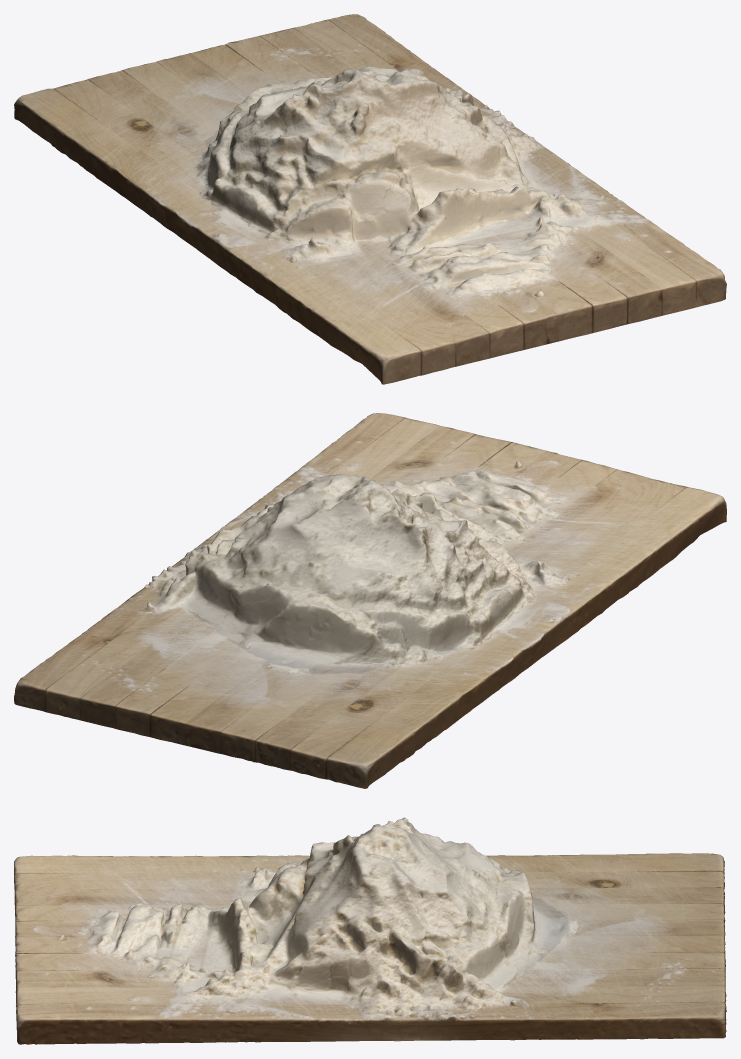
Rendered from flour_pile.glb.
The picture shows the model from 3 angles, top to bottom: view 1: azimuth 30°, elevation 25°; view 2: azimuth 150°, elevation 25°; view 3: azimuth 270°, elevation 25°; orthographic projection. The views are drawn at different scales.
Parts seen in each view (by area): view 1: Object_2; view 2: Object_2; view 3: Object_2.
Part boxes in pixels (x1,y1,x2,y2): Object_2: [14, 14, 726, 384]; Object_2: [14, 413, 726, 788]; Object_2: [14, 817, 726, 1044].
Size of the model in its own units: 13.71 by 4.99 by 24.43.
1 material, 1 textured.
